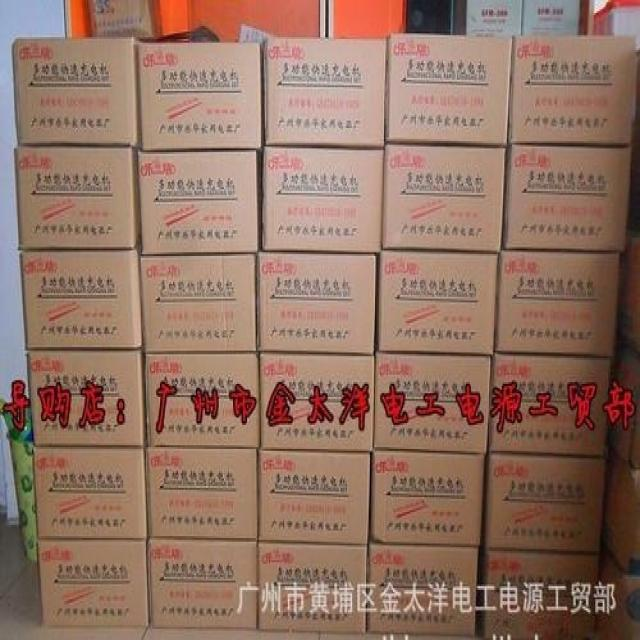box: (387, 34, 512, 146), (134, 40, 261, 150), (10, 38, 138, 147), (508, 37, 636, 146), (262, 39, 387, 148), (136, 149, 259, 258), (505, 146, 632, 251), (383, 145, 506, 253), (14, 146, 139, 252), (495, 254, 620, 358), (479, 550, 625, 638), (261, 150, 384, 252), (490, 356, 612, 457), (377, 253, 498, 353), (257, 255, 377, 355), (25, 347, 145, 445), (22, 251, 143, 347), (483, 454, 605, 548), (374, 355, 491, 452), (142, 255, 258, 351), (145, 353, 259, 450), (34, 445, 149, 541), (259, 355, 375, 450), (147, 445, 259, 540), (369, 455, 487, 543), (258, 452, 369, 545), (257, 541, 367, 634), (365, 546, 477, 636), (149, 539, 257, 631), (36, 539, 149, 626)
